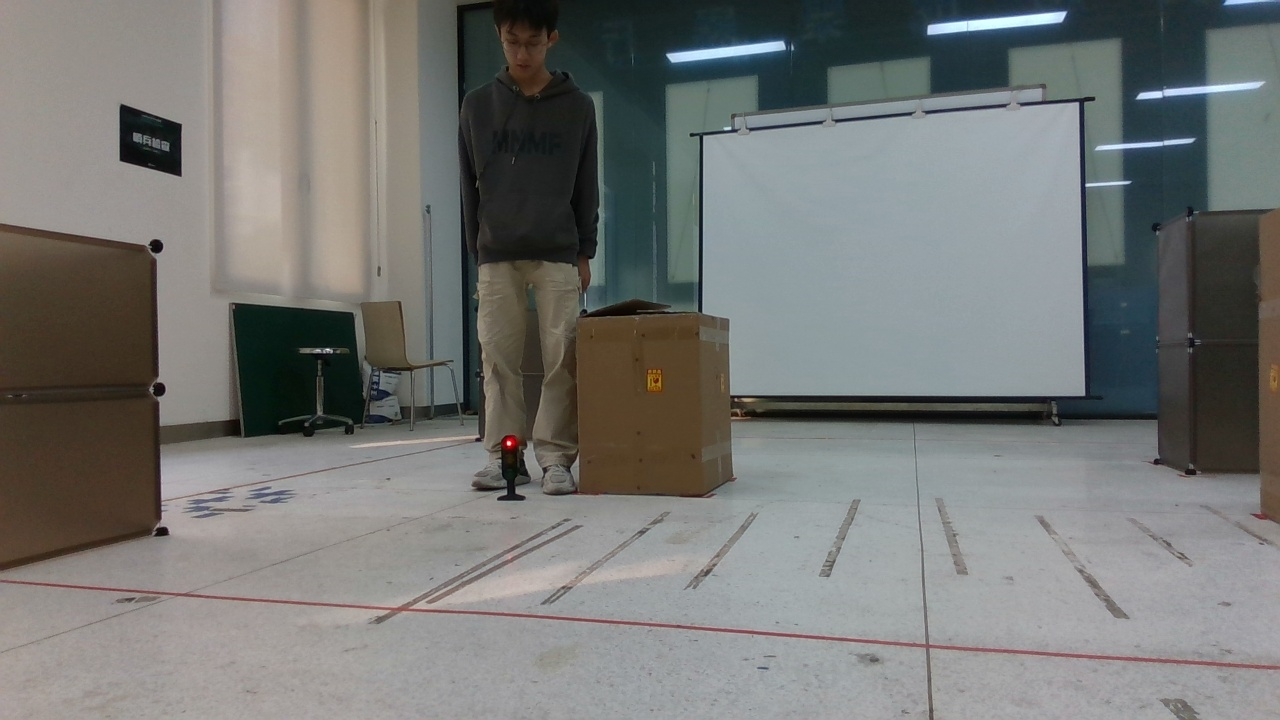red_light: (482, 419, 539, 518)
